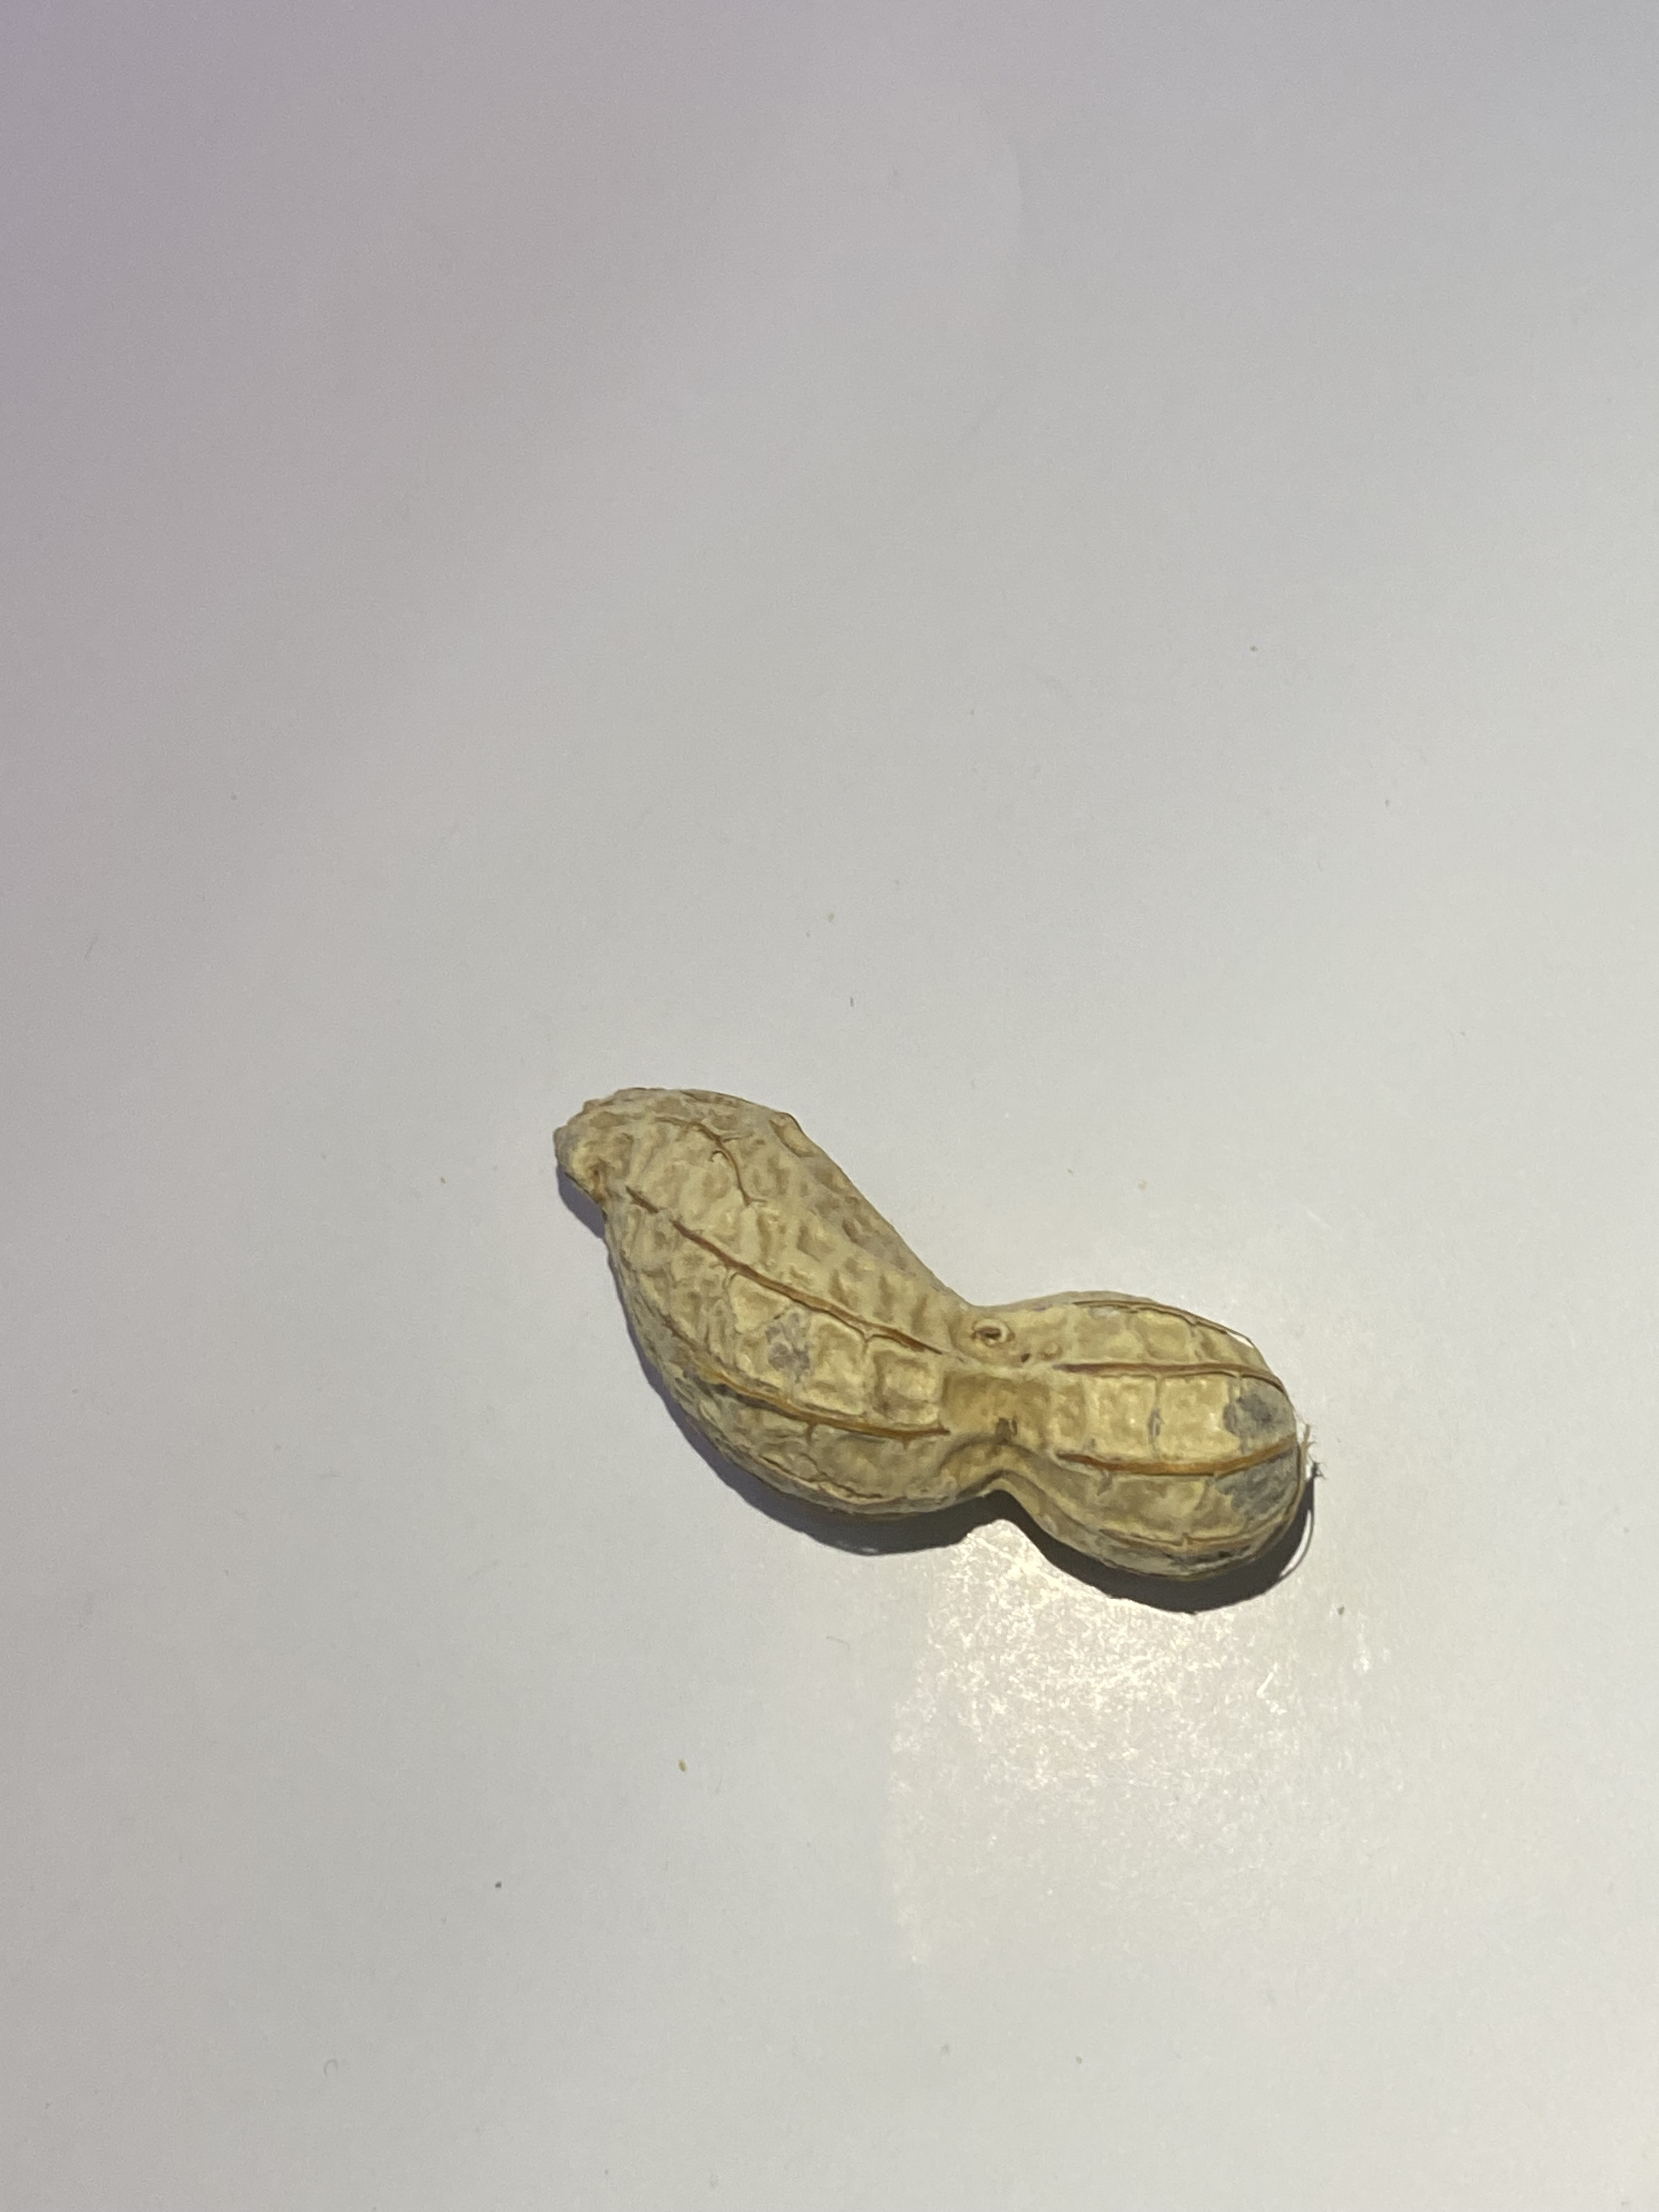kacang2: (538, 1078, 1321, 1606)
